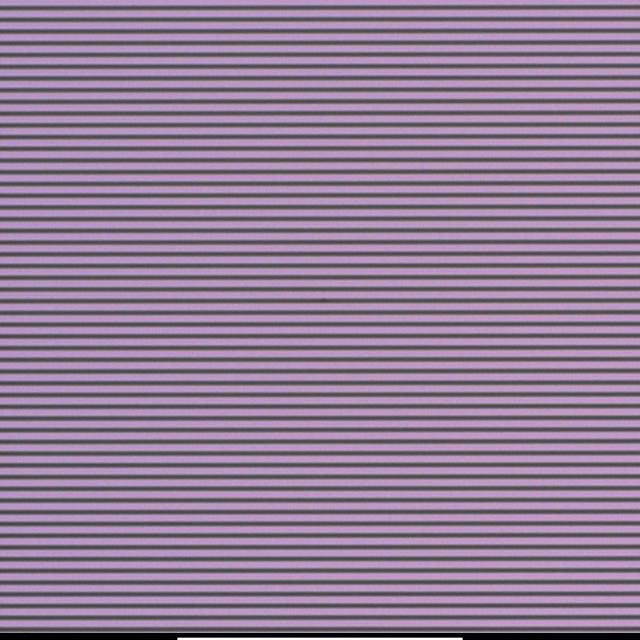03_intrusion: (318, 293, 330, 308)
